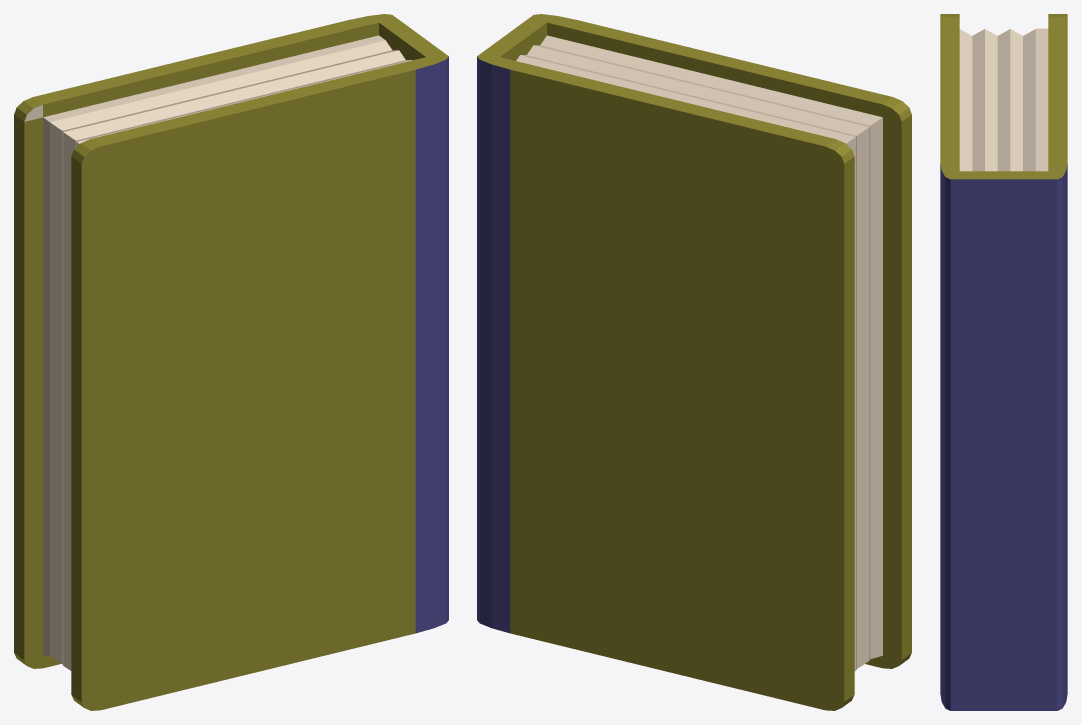
Rendered from book_yellow.fbx.
3 views of the same model, side by side, from view 1: azimuth 30°, elevation 25°; view 2: azimuth 150°, elevation 25°; view 3: azimuth 270°, elevation 25° (orthographic). The views are drawn at different scales.
Visible parts, largest first — view 1: book_yellow; view 2: book_yellow; view 3: book_yellow.
Part boxes in pixels (left/top/right/bottom): book_yellow: left=14, top=14, right=448, bottom=710; book_yellow: left=477, top=14, right=911, bottom=710; book_yellow: left=940, top=14, right=1067, bottom=710.
Size of the model in its own units: 27.16 by 39.28 by 8.53.
